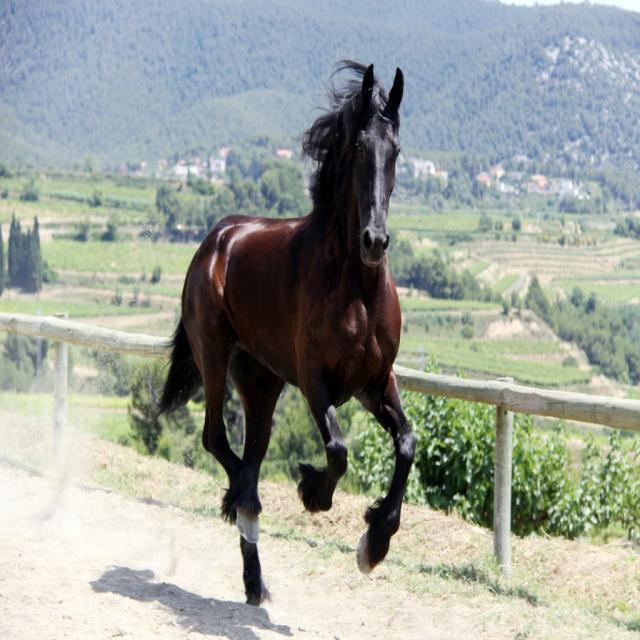Horse: (156, 55, 416, 608)
